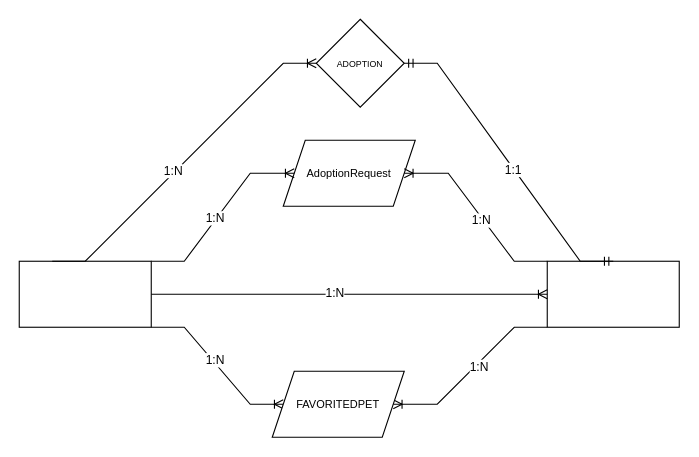
Image size: 699x457. Some labels were removed from this diagram. Each missing label, with the centre of its shape:
PET: point 612,293
USER: point 84,293
